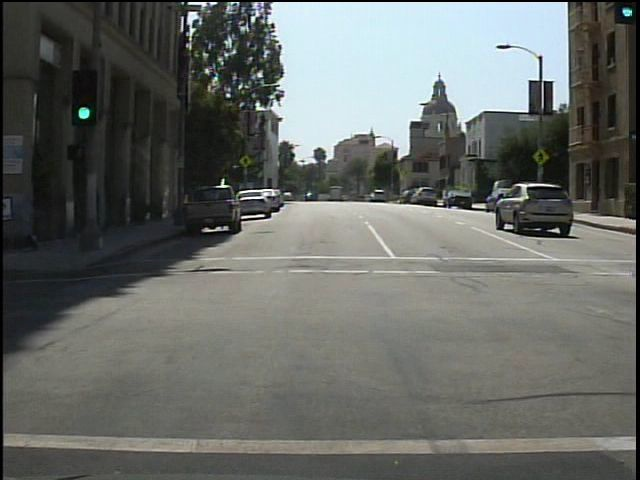person: (3, 161, 10, 262)
